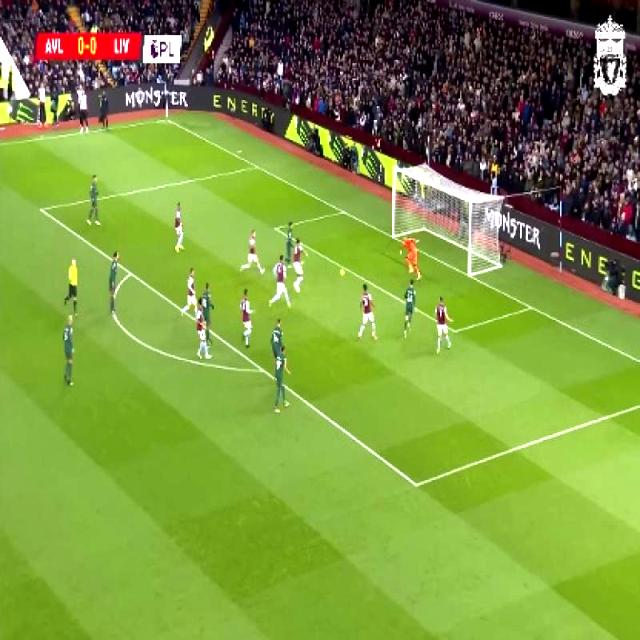bigarea_bottom_inner: (406, 468, 426, 497)
bigarea_top_inner: (34, 198, 48, 218)
bigarea_top_outter: (249, 158, 263, 174)
bottom_arc_area_intersection: (255, 360, 270, 378)
corner: (156, 112, 174, 125)
smallarea_bottom_inner: (446, 318, 464, 340)
smallarea_bottom_outter: (522, 295, 538, 317)
smallarea_top_inner: (268, 218, 282, 236)
smallarea_top_outter: (336, 202, 350, 220)
top_arc_area_intersection: (121, 263, 136, 280)
